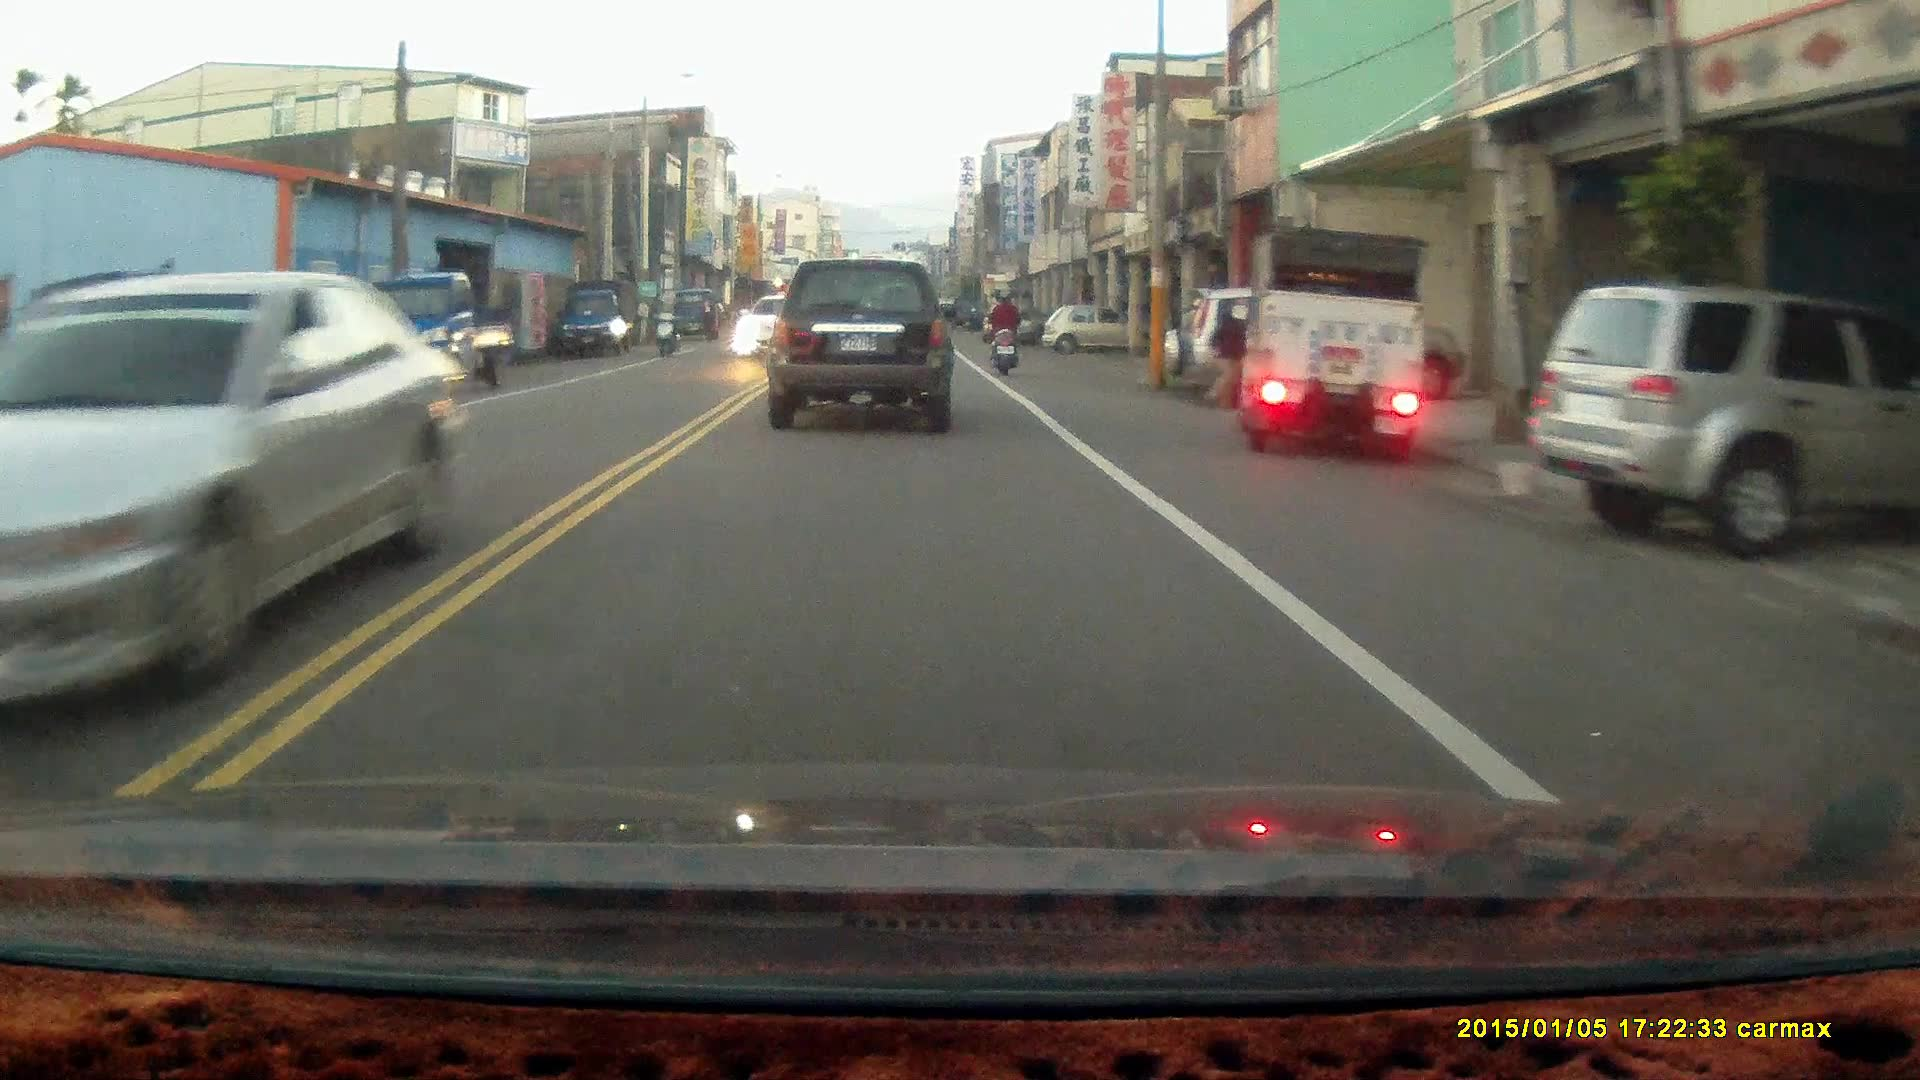pedestrian: (1206, 296, 1245, 408), (697, 294, 717, 343)
rider: (985, 282, 1021, 375), (650, 281, 683, 355)
vehicle: (1, 267, 464, 727), (1540, 281, 1920, 543), (1229, 223, 1432, 457), (1160, 277, 1474, 414), (767, 253, 958, 429), (346, 270, 516, 404), (558, 277, 643, 356), (1047, 304, 1127, 357)
